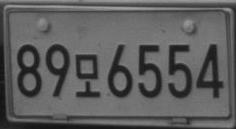4: (195, 43, 223, 98)
5: (167, 44, 193, 98), (137, 43, 162, 98)
6: (107, 44, 133, 98)
8: (16, 43, 42, 97)
9: (45, 43, 70, 96)
모: (75, 53, 100, 97)
